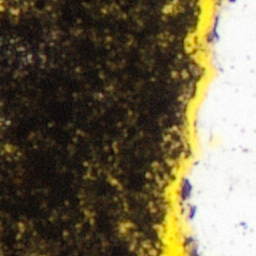cement_matrix: (0, 0, 197, 255), (168, 5, 173, 9)
cracks: (157, 0, 224, 255)
gravel_crushed_stones: (185, 0, 255, 255), (169, 6, 172, 8)
